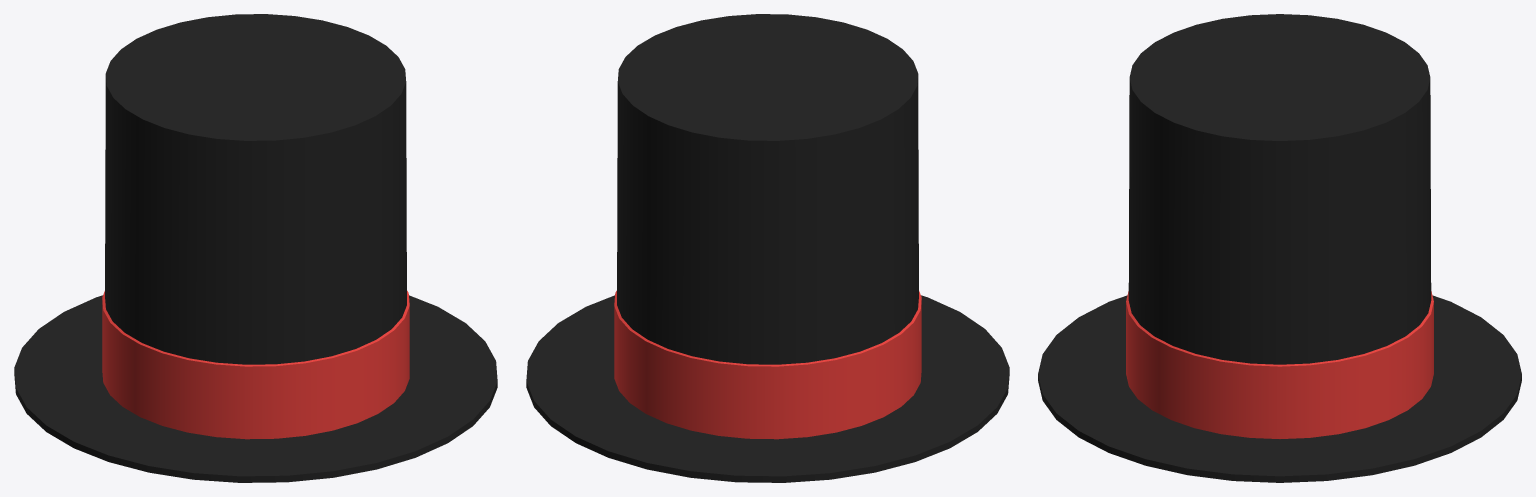
File: top_hat.glb
3 views of the same model, side by side, from view 1: azimuth 30°, elevation 25°; view 2: azimuth 150°, elevation 25°; view 3: azimuth 270°, elevation 25° (orthographic).
Parts seen in each view (by area): view 1: Circle.1811; view 2: Circle.1811; view 3: Circle.1811.
Boxes of the visible parts, x1,y1,x2,y2 form: Circle.1811: (14,14,497,482); Circle.1811: (526,14,1009,482); Circle.1811: (1038,14,1521,482).
Bounding box in the file's own units: 2 × 1.38 × 2.
1 material, 1 textured.
